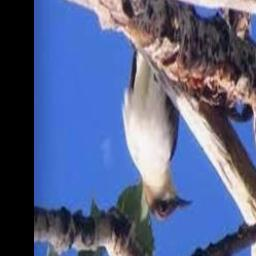Cuckoo: (122, 49, 194, 219)
